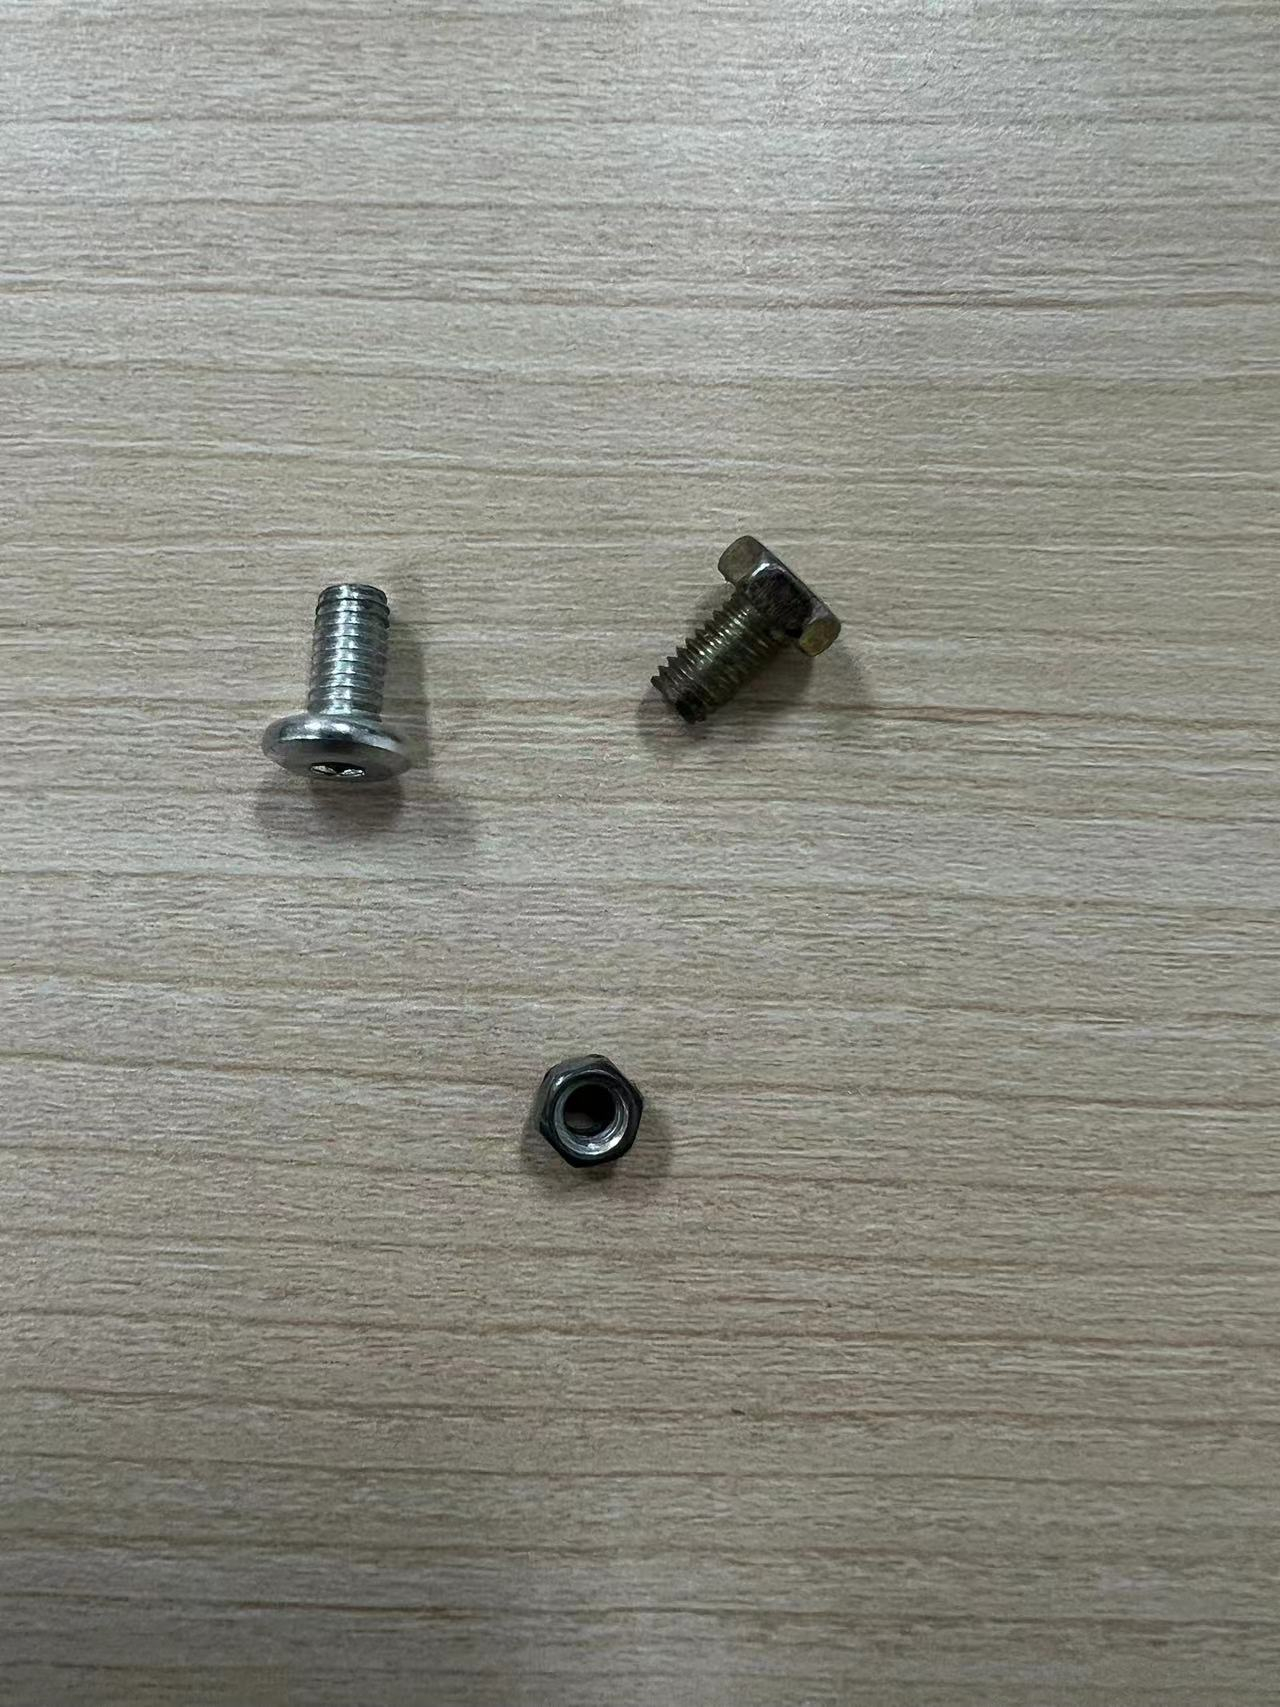Double hexagonal column: (616, 495, 863, 780)
Flange nut: (242, 556, 446, 809)
Hexagon nut: (516, 1038, 660, 1190)
